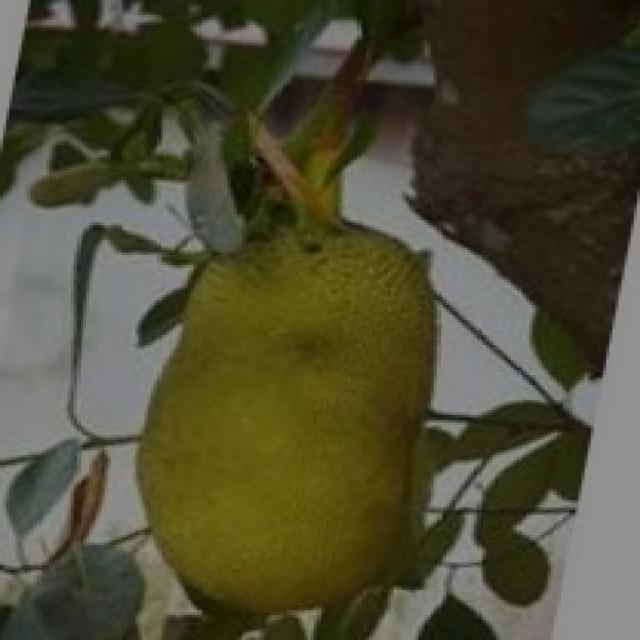Fruit: (89, 217, 480, 640)
